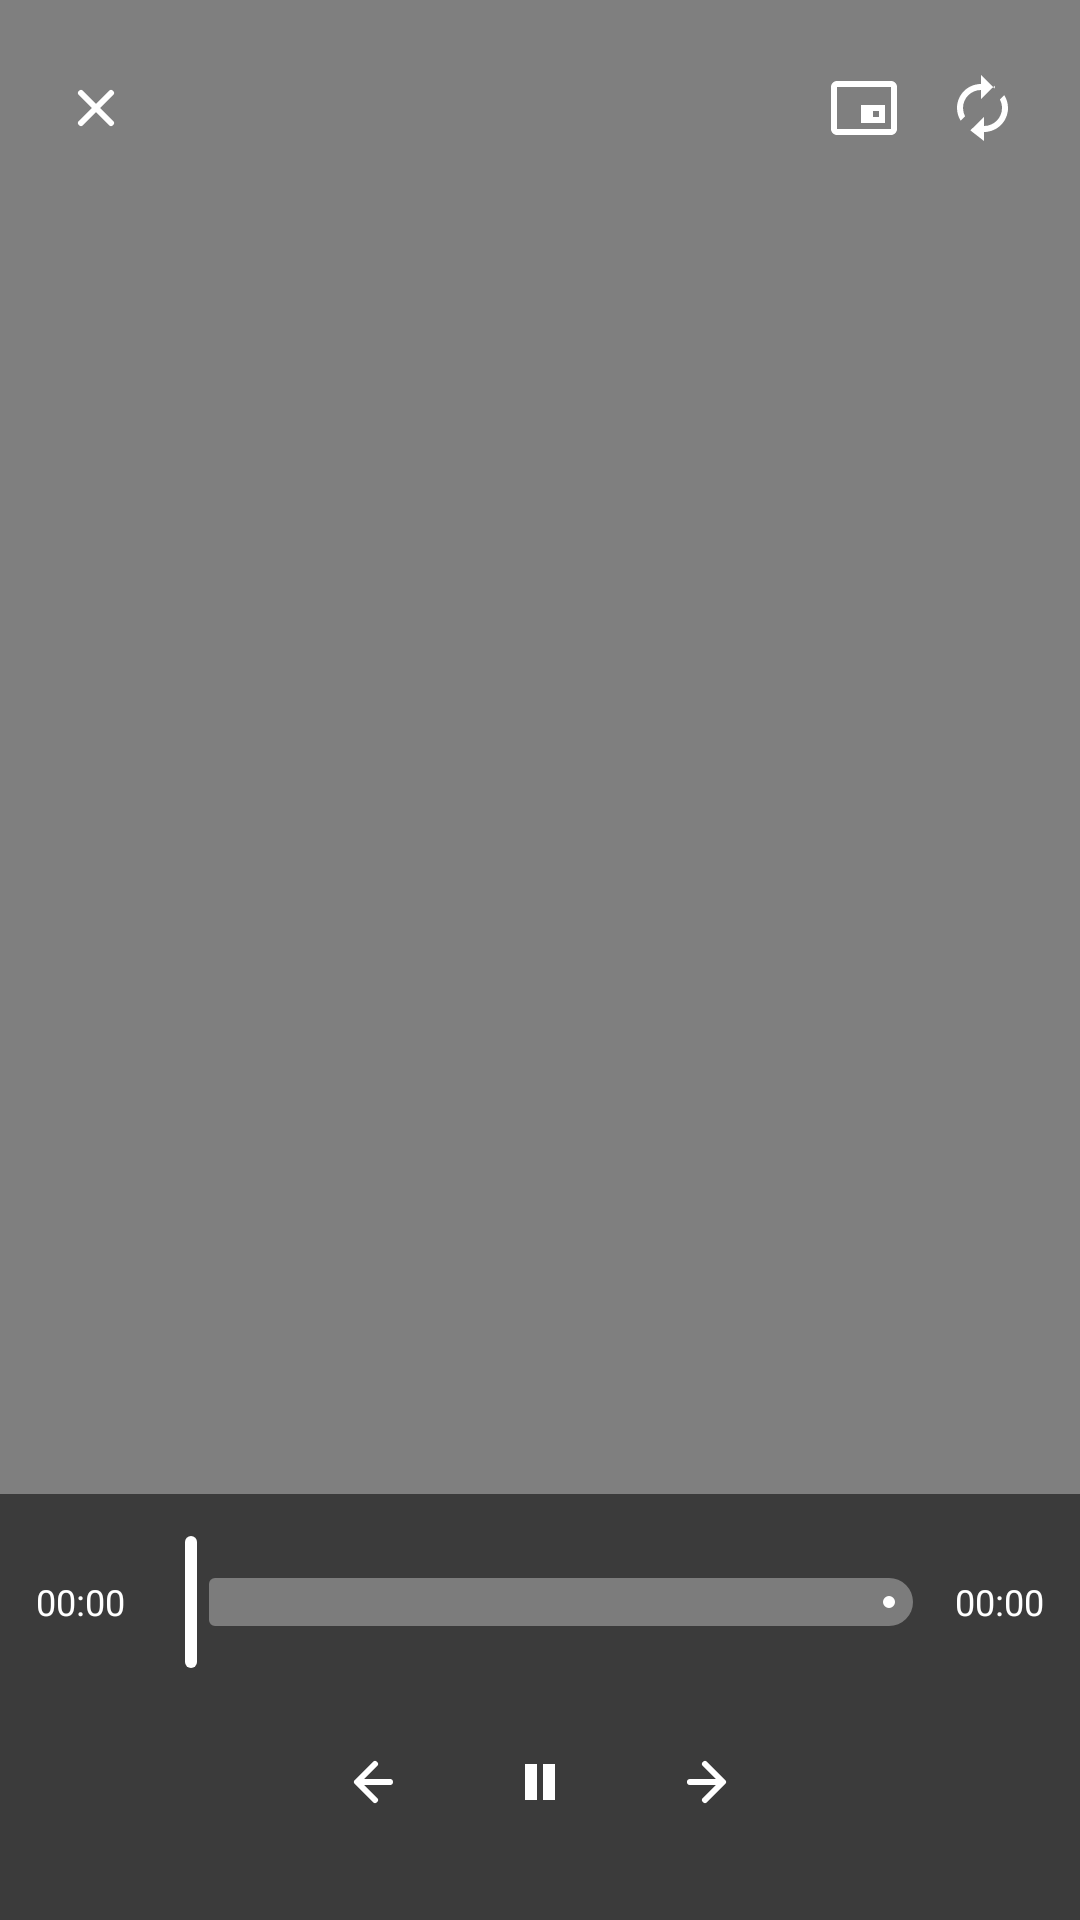

Where icons sit on this 1080 × 1920 app screen, as [x1=x1, y1=y1, x2=x2, y2=y2]:
关闭: [x1=78, y1=90, x2=114, y2=126]
切换横竖屏: [x1=957, y1=75, x2=1008, y2=141]
播放或暂停: [x1=525, y1=1764, x2=555, y2=1800]
画中画: [x1=831, y1=81, x2=897, y2=135]
